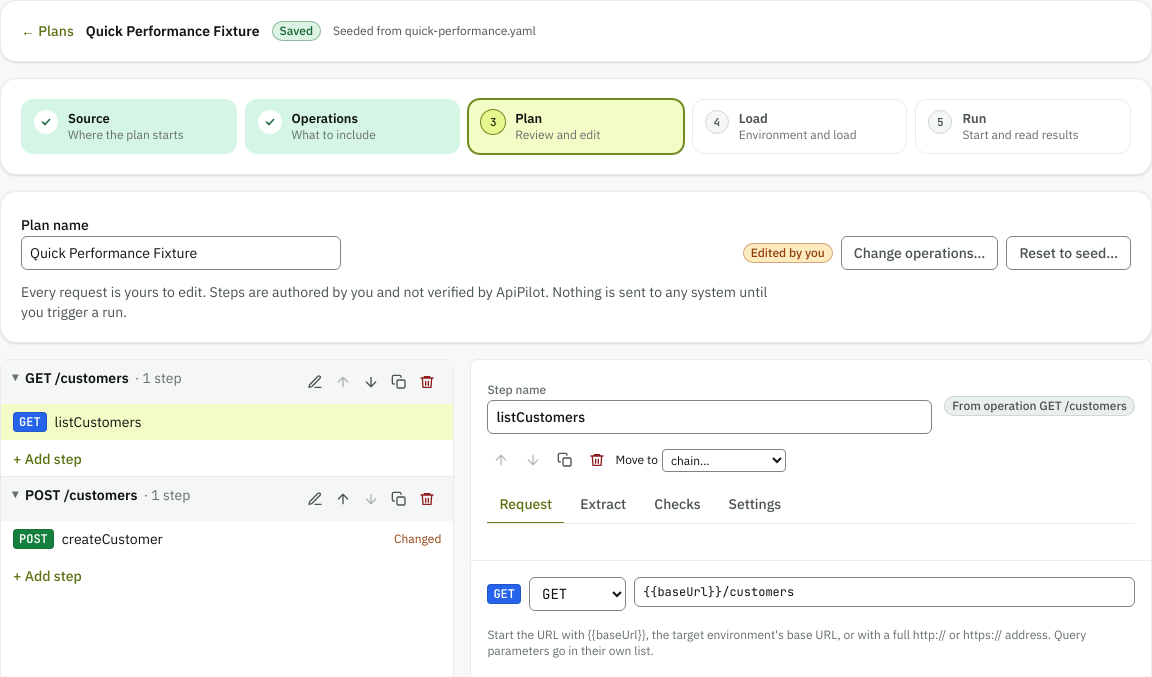
it: Change operations on the Plan step › names the edited steps a merge would remove, changes nothing on Cancel, and removes them once confirmed
Expected: the field labelled "Plan name" is shown, [21, 236, 341, 270]
Click the button "Change operations…" at [920, 253], box [841, 236, 998, 270]
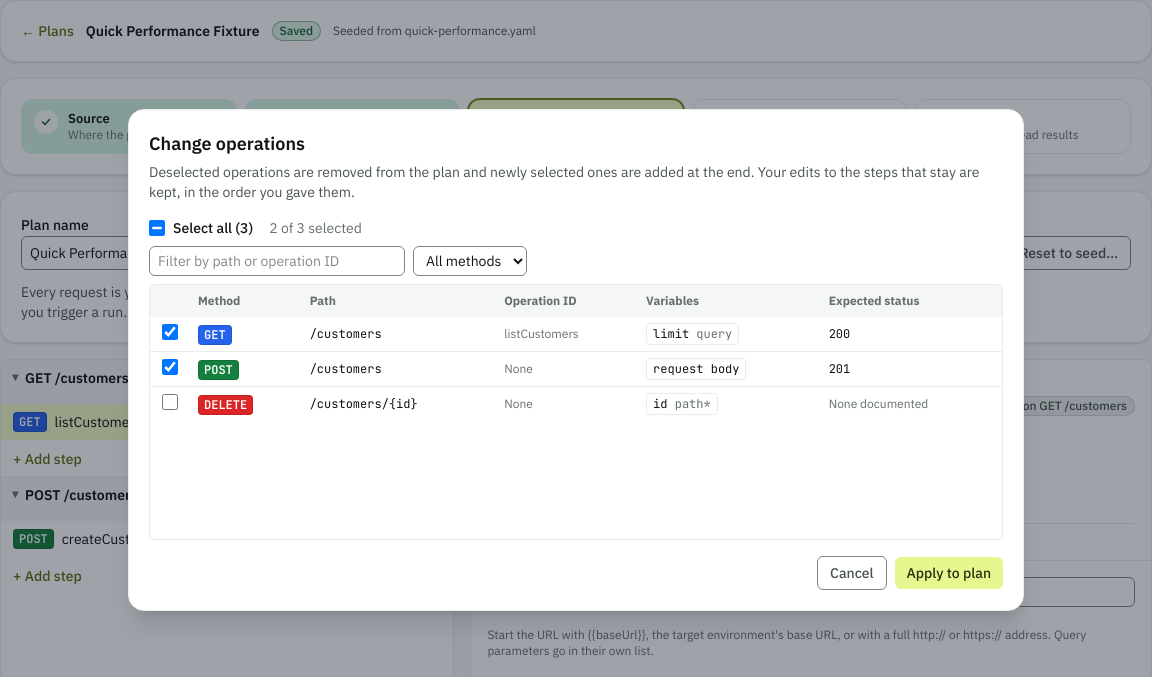
Click the checkbox named "POST /customers" at [170, 366], box [162, 358, 178, 374]
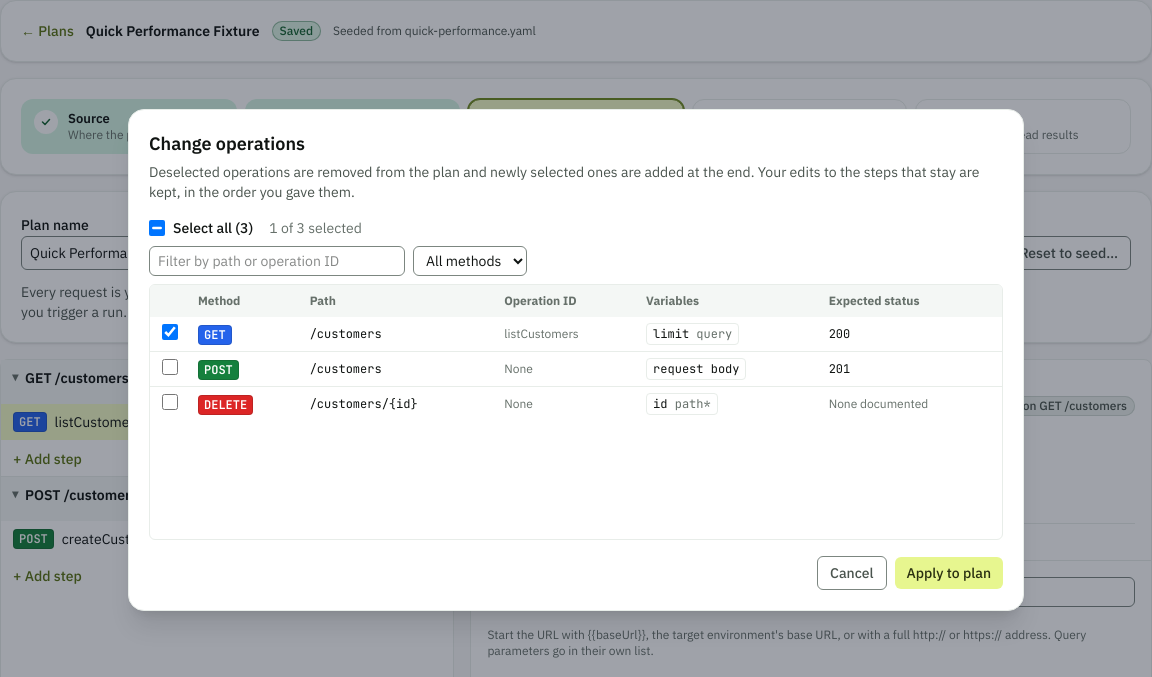
Click the button "Apply to plan" at [949, 573], box [894, 557, 1003, 589]
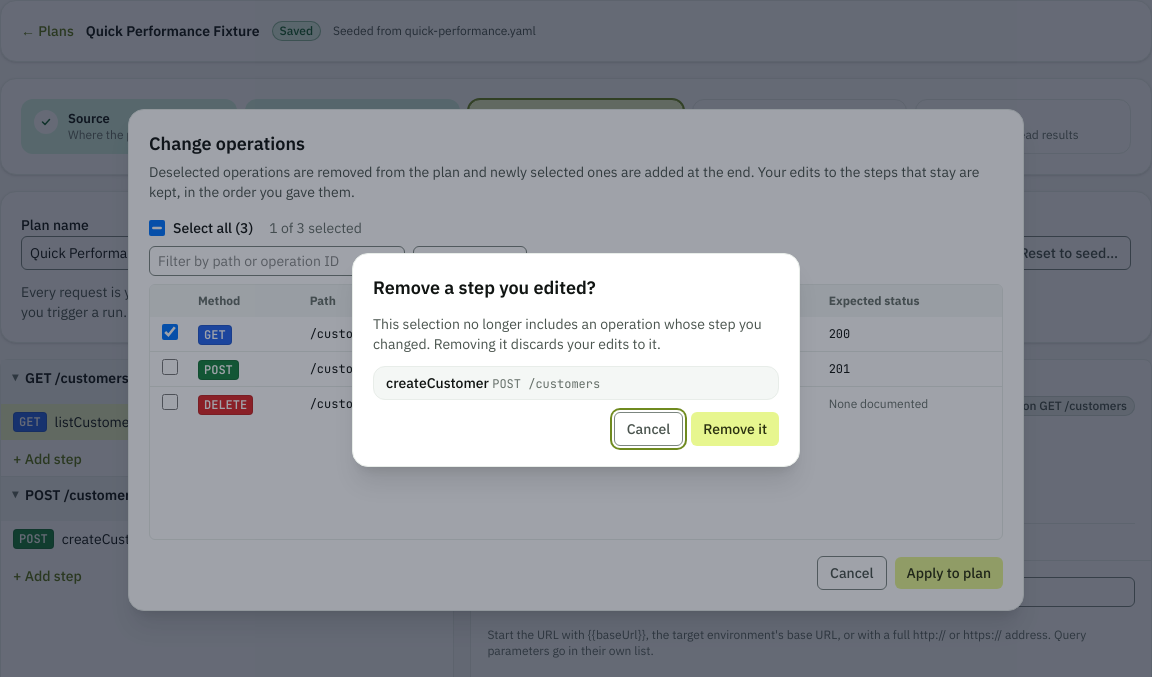
Now the dialog with test id "edited-removal-dialog" shows "Remove a step you edited?", box [352, 253, 800, 467]
Now the list named "Edited steps that would be removed" shows "createCustomer", box [386, 374, 489, 392]
Now the list named "Edited steps that would be removed" shows "POST /customers", box [492, 376, 600, 392]
Click the button "Cancel" at [648, 429], box [614, 412, 683, 446]
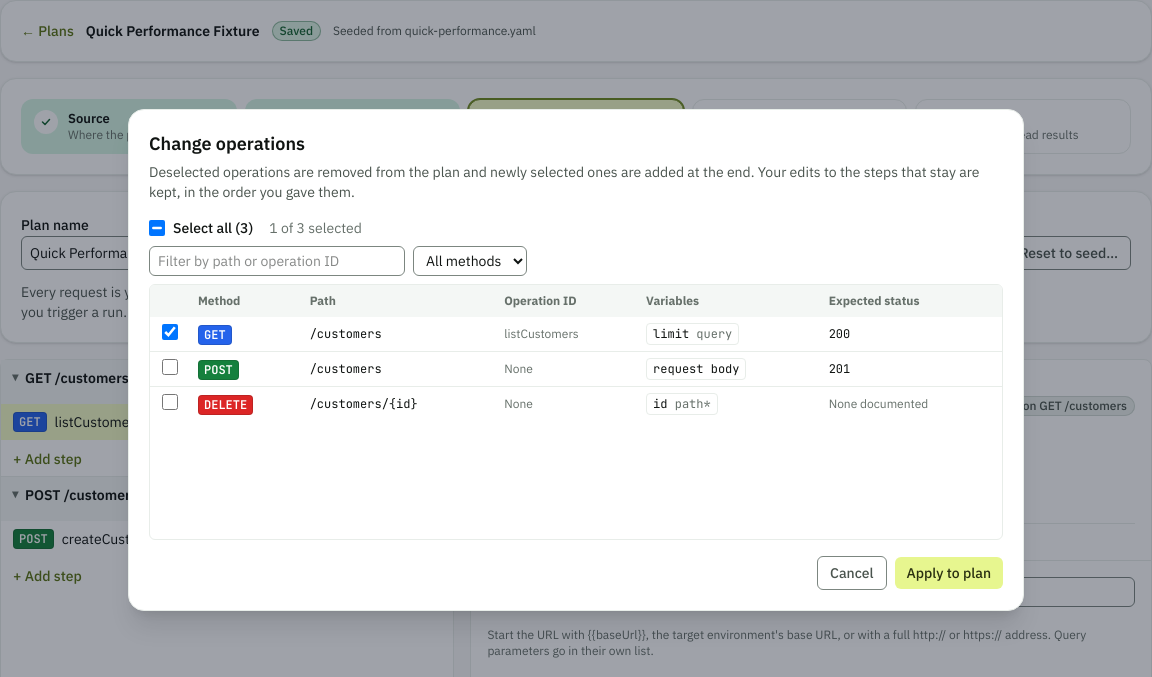
Expected: the text "createCustomer" is shown, [62, 530, 163, 548]
Now the checkbox named "POST /customers" is not checked, box [162, 358, 178, 374]
Now the dialog with test id "edited-removal-dialog" is gone
Click the button "Apply to plan" at [949, 573], box [894, 557, 1003, 589]
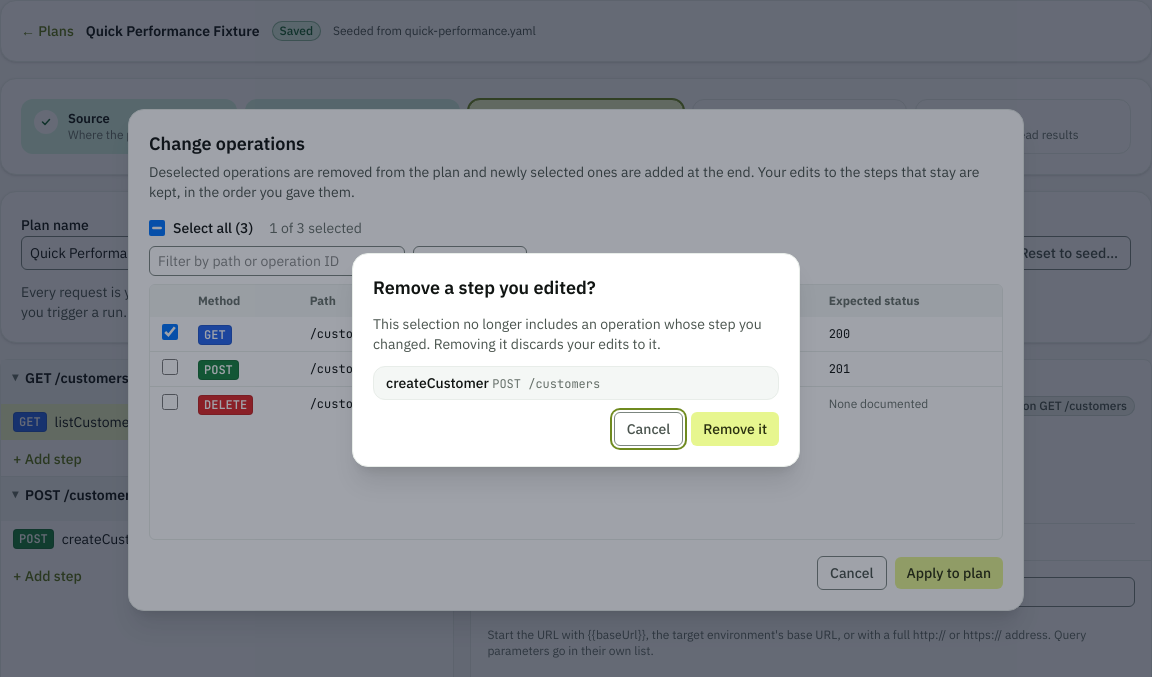
Click the button "Remove it" at [735, 429], box [691, 412, 779, 446]
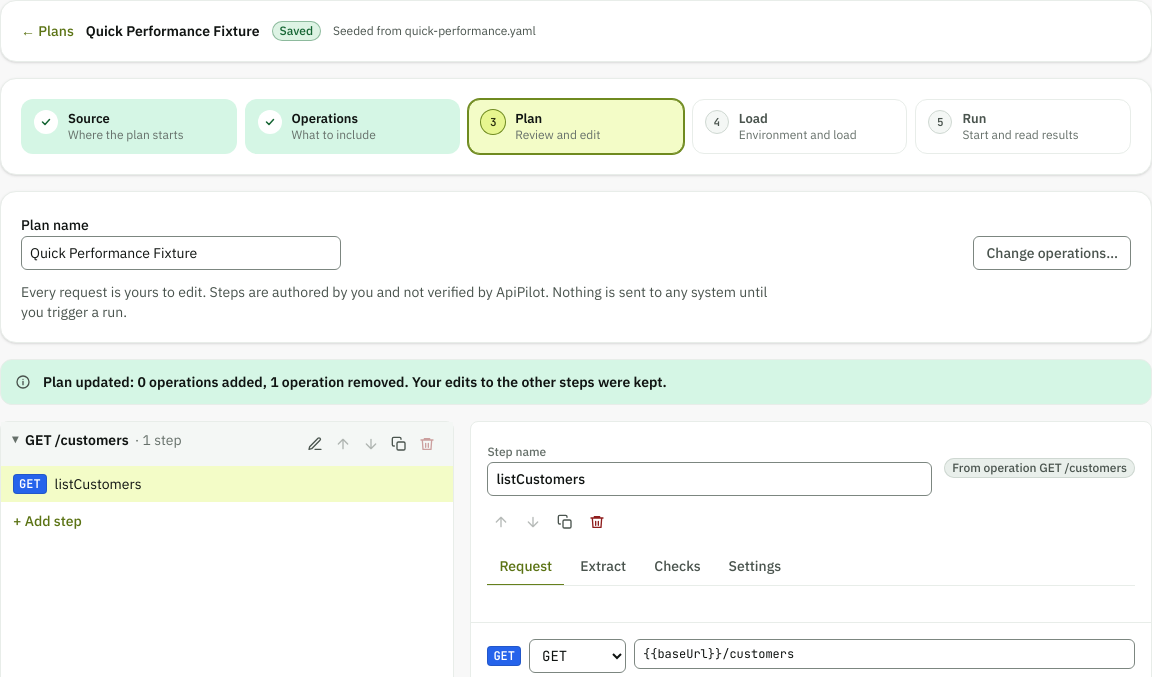
Now the dialog with test id "change-operations-panel" is gone
Now the button "createCustomer" is gone
